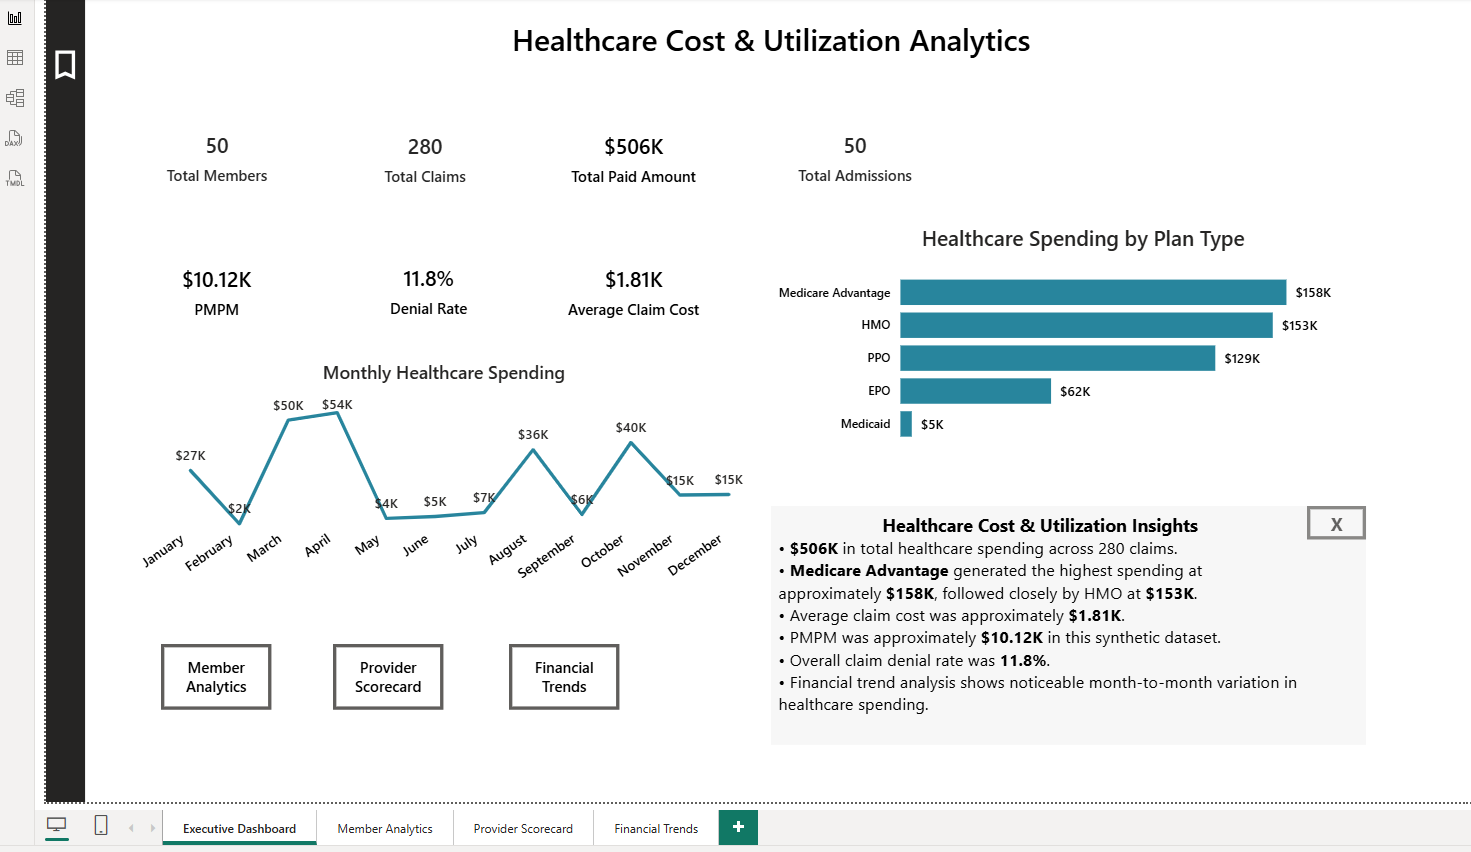

This screenshot's page, from the dashboard's own definition file:
{"tool":"powerbi","page":{"name":"Executive Dashboard","canvas":[1280,720],"ordinal":0},"visuals":[{"type":"textbox","title":"Text","box":[406.2,13.1,485.8,52.4],"z":0},{"type":"actionButton","title":"Close button","box":[1128.8,454.9,52.9,30],"z":0,"group":"g1"},{"type":"textbox","box":[0,0,34.8,720.1],"z":1000},{"type":"shape","title":"rectangle shape","box":[648.8,454.9,532.9,214.3],"z":1000,"group":"g1"},{"type":"card","fields":{"Values":["Sum(vw_Executive_Metrics.TotalMembers)"]},"box":[78.6,97.8,148.7,89.4],"z":2000},{"type":"textbox","box":[650.1,455.7,478.4,211.6],"z":2000,"group":"g1"},{"type":"clusteredBarChart","title":"Healthcare Spending by Plan Type","fields":{"Category":["vw_MemberAnalytics.plan_type"],"Y":["Sum(vw_MemberAnalytics.TotalPaidAmount)"]},"box":[650,202.2,557.1,208],"z":3000},{"type":"lineChart","title":"Monthly Healthcare Spending","fields":{"Category":["vw_MonthlyFinancialTrends.MonthDate.Variation.Date Hierarchy.Year","vw_MonthlyFinancialTrends.MonthDate.Variation.Date Hierarchy.Quarter","vw_MonthlyFinancialTrends.MonthDate.Variation.Date Hierarchy.Month","vw_MonthlyFinancialTrends.MonthDate.Variation.Date Hierarchy.Day"],"Y":["Sum(vw_MonthlyFinancialTrends.MonthlySpend)"]},"box":[78.6,324.5,555.2,214.9],"z":4000},{"type":"actionButton","title":"Member Analytics","box":[102.8,578.5,98.9,58.9],"z":5000},{"type":"card","fields":{"Values":["Sum(vw_Executive_Metrics.TotalClaims)"]},"box":[265.5,98.8,148.7,89.4],"z":6000},{"type":"actionButton","title":"Provider Scorecard","box":[257,578.5,98.9,58.9],"z":7000},{"type":"actionButton","title":"Financial Trends","box":[414.2,578.5,98.9,58.9],"z":8000},{"type":"actionButton","title":"View Insights button","box":[0,39.8,34.6,41.5],"z":9000},{"type":"group","id":"g1","title":"Insight panel","box":[648.8,454.9,532.5,213.9],"z":10000},{"type":"card","fields":{"Values":["Sum(vw_Executive_Metrics.PMPM)"]},"box":[78.6,217.7,148,89.4],"z":11000},{"type":"card","fields":{"Values":["Sum(vw_Executive_Metrics.DenialRate)"]},"box":[269.1,216.7,148,89.4],"z":12000},{"type":"card","fields":{"Values":["Sum(vw_Executive_Metrics.TotalPaidAmount)"]},"box":[452.3,98.8,148,89.4],"z":13000},{"type":"card","fields":{"Values":["Sum(vw_Executive_Metrics.AverageClaimCost)"]},"box":[452.5,217.7,148,89.4],"z":14000},{"type":"card","fields":{"Values":["Sum(vw_MemberAnalytics.TotalAdmissions)"]},"box":[650,97.6,148.7,89.4],"z":15000}]}

Visuals, with their boxes on the page's 1280x720 design canvas (x1, y1, x2, y2). These are canvas units, not pixel positions in the 1471x852 screenshot, which may show the page scaled, cropped or inside an application window:
"Text" textbox: [406, 13, 892, 66]
"Close button" actionButton: [1129, 455, 1182, 485]
textbox: [0, 0, 35, 720]
"rectangle shape" shape: [649, 455, 1182, 669]
card - Sum(vw_Executive_Metrics.TotalMembers): [79, 98, 227, 187]
textbox: [650, 456, 1128, 667]
"Healthcare Spending by Plan Type" clusteredBarChart: [650, 202, 1207, 410]
"Monthly Healthcare Spending" lineChart: [79, 324, 634, 539]
"Member Analytics" actionButton: [103, 578, 202, 637]
card - Sum(vw_Executive_Metrics.TotalClaims): [266, 99, 414, 188]
"Provider Scorecard" actionButton: [257, 578, 356, 637]
"Financial Trends" actionButton: [414, 578, 513, 637]
"View Insights button" actionButton: [0, 40, 35, 81]
"Insight panel" group: [649, 455, 1181, 669]
card - Sum(vw_Executive_Metrics.PMPM): [79, 218, 227, 307]
card - Sum(vw_Executive_Metrics.DenialRate): [269, 217, 417, 306]
card - Sum(vw_Executive_Metrics.TotalPaidAmount): [452, 99, 600, 188]
card - Sum(vw_Executive_Metrics.AverageClaimCost): [452, 218, 600, 307]
card - Sum(vw_MemberAnalytics.TotalAdmissions): [650, 98, 799, 187]
